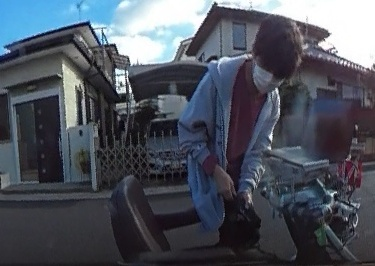person: (183, 13, 304, 251)
